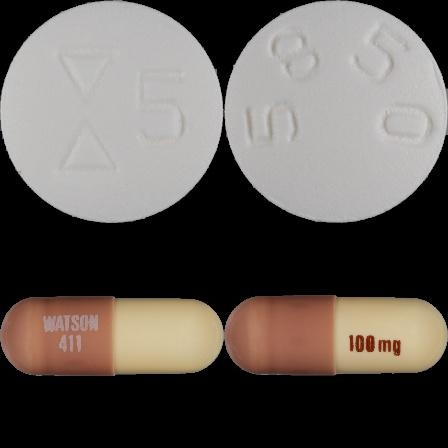63629-5349: (0, 0, 224, 224)
